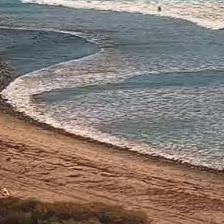surfer: (156, 6, 162, 12)
